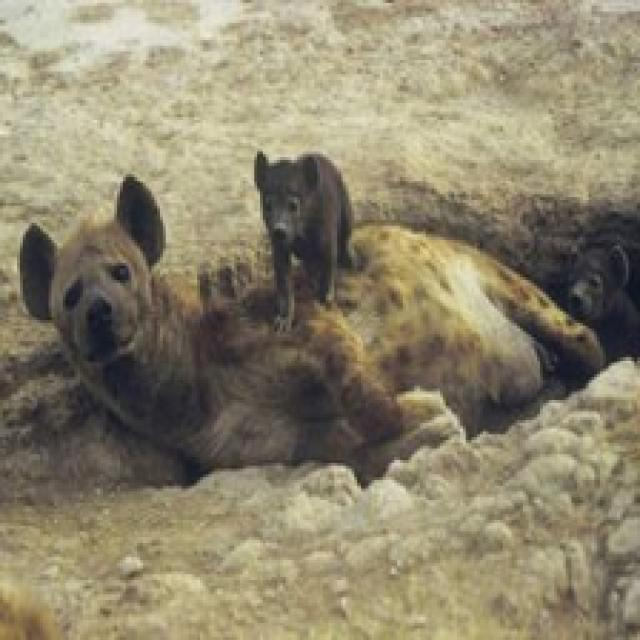hyena: (0, 186, 640, 450), (252, 146, 388, 302)
